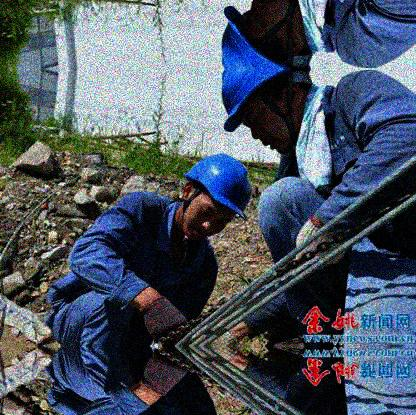helmet: (221, 71, 312, 156), (178, 152, 253, 241), (221, 1, 314, 69)
